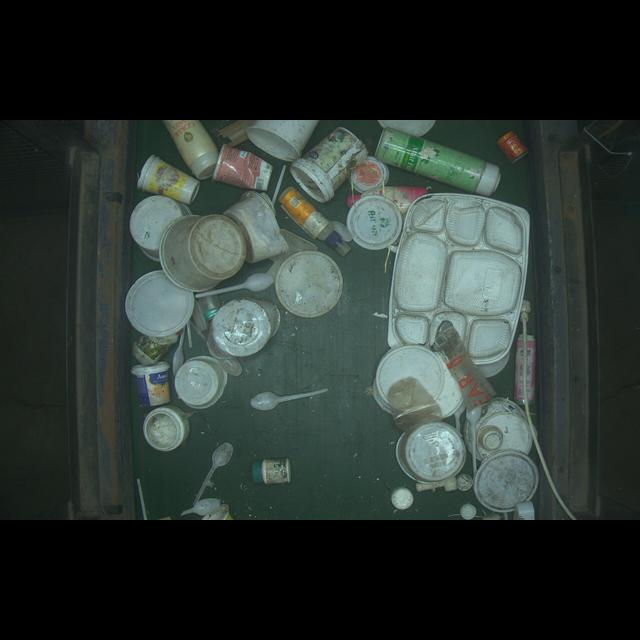mix PP: (387, 169, 527, 369), (375, 127, 503, 193), (154, 205, 239, 288), (287, 124, 356, 203), (278, 184, 346, 245), (135, 149, 205, 205), (206, 140, 275, 196), (130, 363, 175, 405), (347, 160, 390, 192)
